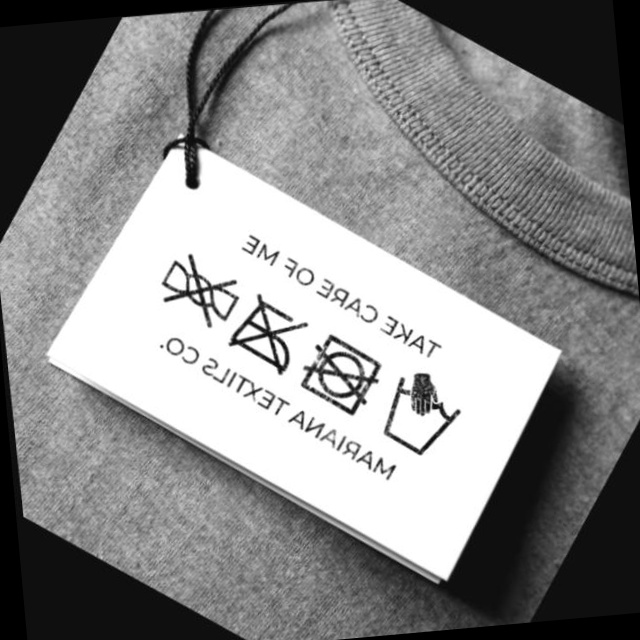DN_iron: (229, 292, 308, 377)
DN_tumble_dry: (301, 330, 387, 414)
DN_wring: (158, 248, 242, 328)
hand_wash: (378, 367, 466, 464)
